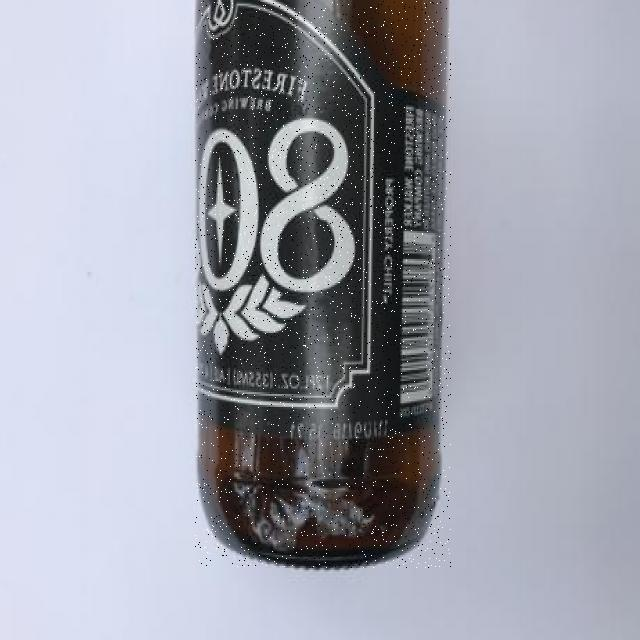glass: (196, 0, 451, 568)
